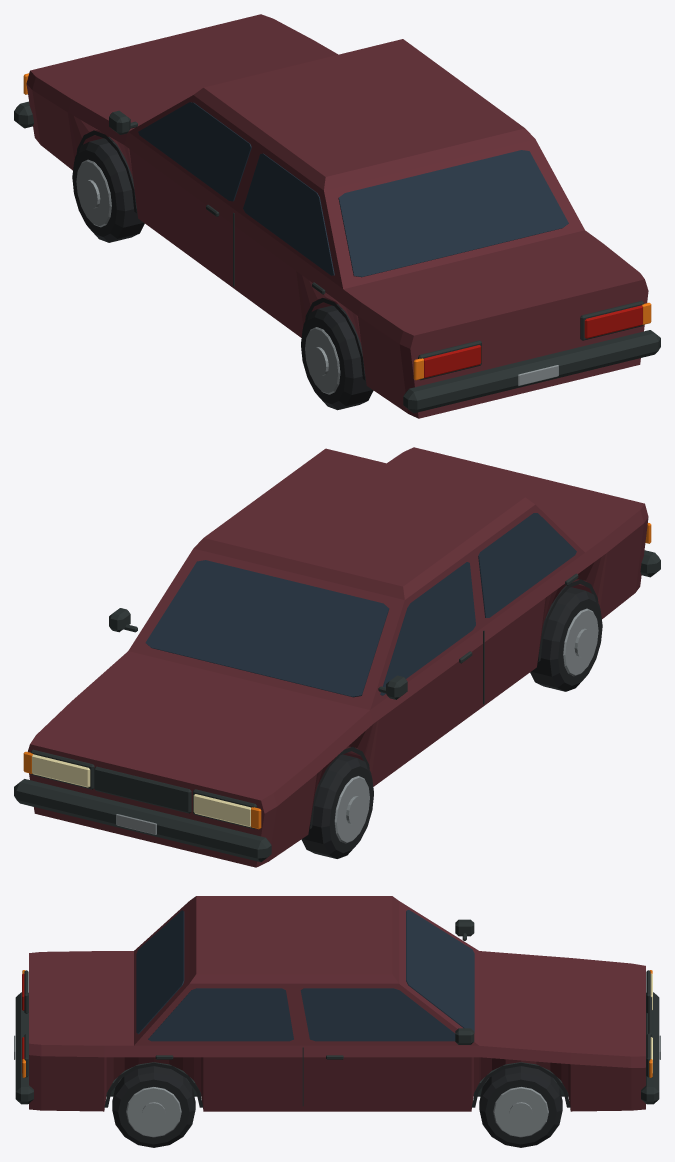
Rendered from 15_ExecutiveSedan.fbx.
3 renders of one model, top to bottom at view 1: azimuth 30°, elevation 25°; view 2: azimuth 150°, elevation 25°; view 3: azimuth 270°, elevation 25°, orthographic. The views are drawn at different scales.
Parts seen in each view (by area): view 1: Continuous body with open wheel arches.015, Raked cabin with chamfered roof.014, Framed rear windshield.010, Moulded bumper.029, Side glass -1 pane 1.010, Side glass -1 pane 0.013, WheelRL_ShapedSidewall.014, WheelFL_ShapedSidewall.014, WheelFL_Rim.014, WheelRL_Rim.014, Tail lamp.029, Tail lamp.028; view 2: Continuous body with open wheel arches.015, Raked cabin with chamfered roof.014, Framed opaque windshield.014, Moulded bumper.028, Side glass -1 pane 1.010, Side glass -1 pane 0.013, WheelRL_ShapedSidewall.014, WheelFL_ShapedSidewall.014, Inset radiator grille.014, WheelFL_Rim.014, WheelRL_Rim.014, Headlamp.025 (+1 smaller); view 3: Continuous body with open wheel arches.015, Raked cabin with chamfered roof.014, Side glass 1 pane 1.010, Side glass 1 pane 0.013, Framed opaque windshield.014, Framed rear windshield.010, WheelFR_ShapedSidewall.014, WheelRR_ShapedSidewall.014, WheelFR_Rim.014, WheelRR_Rim.014, Moulded bumper.029, Moulded bumper.028 (+5 smaller).
Part boxes in pixels (x1,y1,x2,y2): Continuous body with open wheel arches.015: (26,14,648,418); Raked cabin with chamfered roof.014: (129,39,584,289); Framed rear windshield.010: (338,150,568,277); Moulded bumper.029: (403,330,660,413); Side glass -1 pane 1.010: (138,102,251,201); Side glass -1 pane 0.013: (243,153,334,275); WheelRL_ShapedSidewall.014: (301,304,373,410); WheelFL_ShapedSidewall.014: (72,137,144,242); WheelFL_Rim.014: (76,159,111,227); WheelRL_Rim.014: (305,327,340,394); Tail lamp.029: (584,305,642,338); Tail lamp.028: (424,345,481,378); Continuous body with open wheel arches.015: (27,447,648,867); Raked cabin with chamfered roof.014: (128,448,584,709); Framed opaque windshield.014: (145,560,389,697); Moulded bumper.028: (14,779,271,862); Side glass -1 pane 1.010: (380,562,475,695); Side glass -1 pane 0.013: (478,513,576,617); WheelRL_ShapedSidewall.014: (530,586,602,691); WheelFL_ShapedSidewall.014: (301,754,373,858); Inset radiator grille.014: (94,766,191,813); WheelFL_Rim.014: (334,776,369,843); WheelRL_Rim.014: (563,608,598,676); Headlamp.025: (32,754,90,787); Continuous body with open wheel arches.015: (29,951,645,1111); Raked cabin with chamfered roof.014: (134,896,479,1045); Side glass 1 pane 1.010: (300,988,455,1041); Side glass 1 pane 0.013: (148,988,293,1041); Framed opaque windshield.014: (406,910,474,1032); Framed rear windshield.010: (136,910,184,1034); WheelFR_ShapedSidewall.014: (479,1066,562,1147); WheelRR_ShapedSidewall.014: (112,1066,195,1147); WheelFR_Rim.014: (493,1087,548,1137); WheelRR_Rim.014: (126,1087,181,1137); Moulded bumper.029: (15,992,33,1104); Moulded bumper.028: (641,992,659,1104).
Size of the model in its own units: 220 by 148 by 529.
